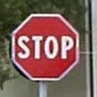stop: (10, 12, 79, 81)
